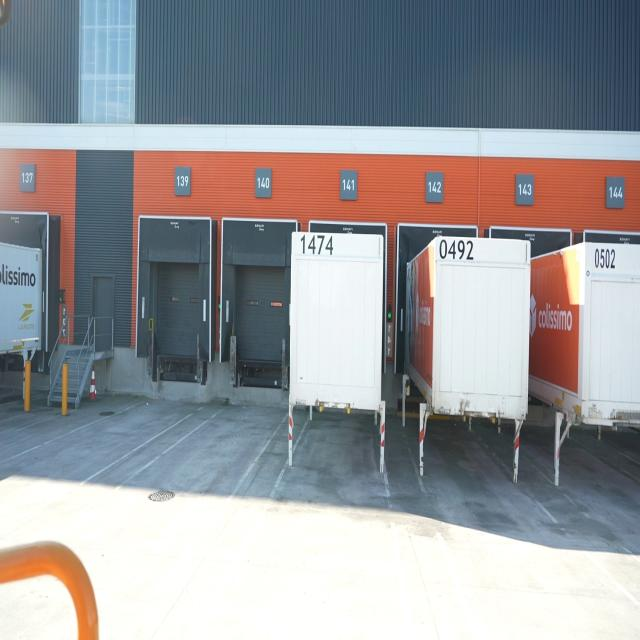Code: (296, 228, 336, 261), (438, 235, 477, 265), (591, 245, 620, 272)
